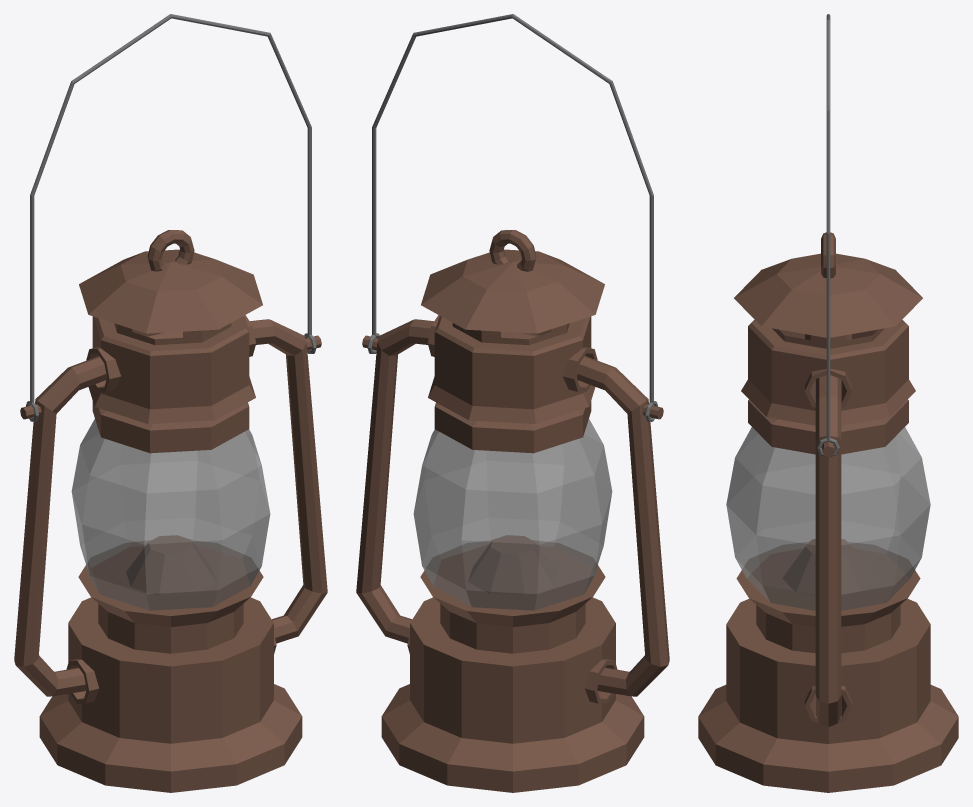
Rendered from lantern.fbx.
3 renders of one model, left to right at view 1: azimuth 30°, elevation 25°; view 2: azimuth 150°, elevation 25°; view 3: azimuth 270°, elevation 25°, orthographic.
Parts seen in each view (by area): view 1: pTorus6, pCylinder1, pTorus5; view 2: pTorus6, pCylinder1, pTorus5; view 3: pTorus6, pCylinder1, pTorus5.
Boxes of the visible parts, x1,y1,x2,y2 form: pTorus6: [14, 230, 327, 792]; pCylinder1: [71, 419, 270, 610]; pTorus5: [26, 14, 316, 421]; pTorus6: [356, 230, 669, 792]; pCylinder1: [413, 419, 612, 610]; pTorus5: [367, 14, 657, 421]; pTorus6: [698, 232, 958, 792]; pCylinder1: [726, 427, 930, 610]; pTorus5: [817, 14, 839, 457].
Bounding box in the file's own units: 3.81 × 8.48 × 2.79.
